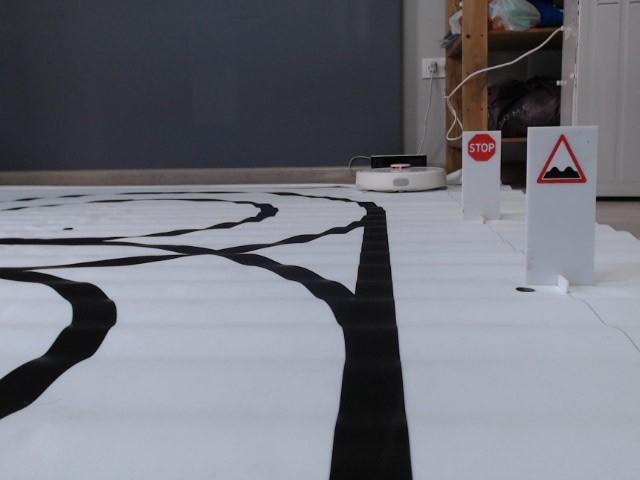Nerov: (535, 133, 588, 185)
Stop: (467, 133, 496, 162)
